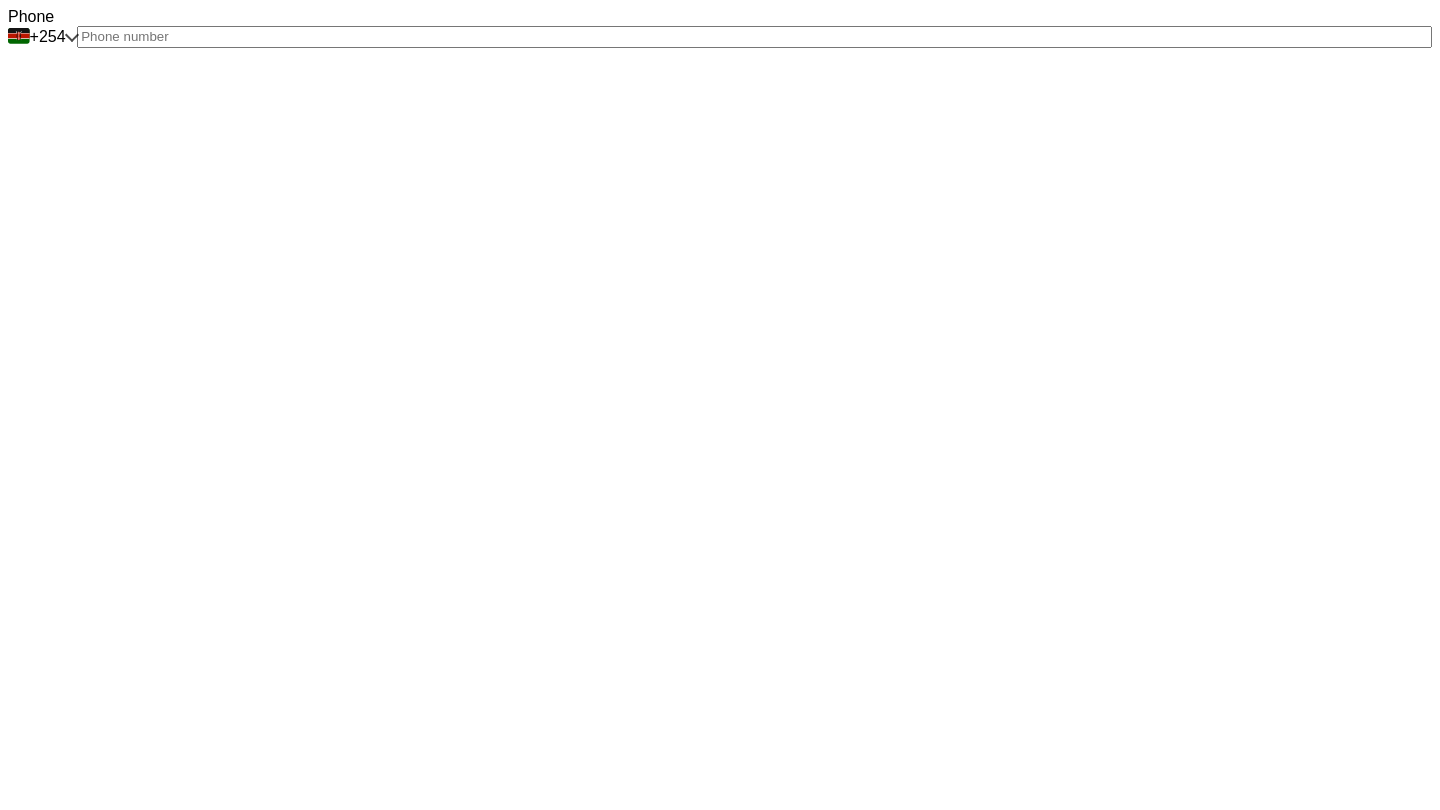
Test case: PhoneInput › opens a searchable list, finds a country by name, and the number follows the choice
Type "0772123456" into the field labelled "Phone".
click(755, 37); type("0772123456")  # box [77,26,1432,48]
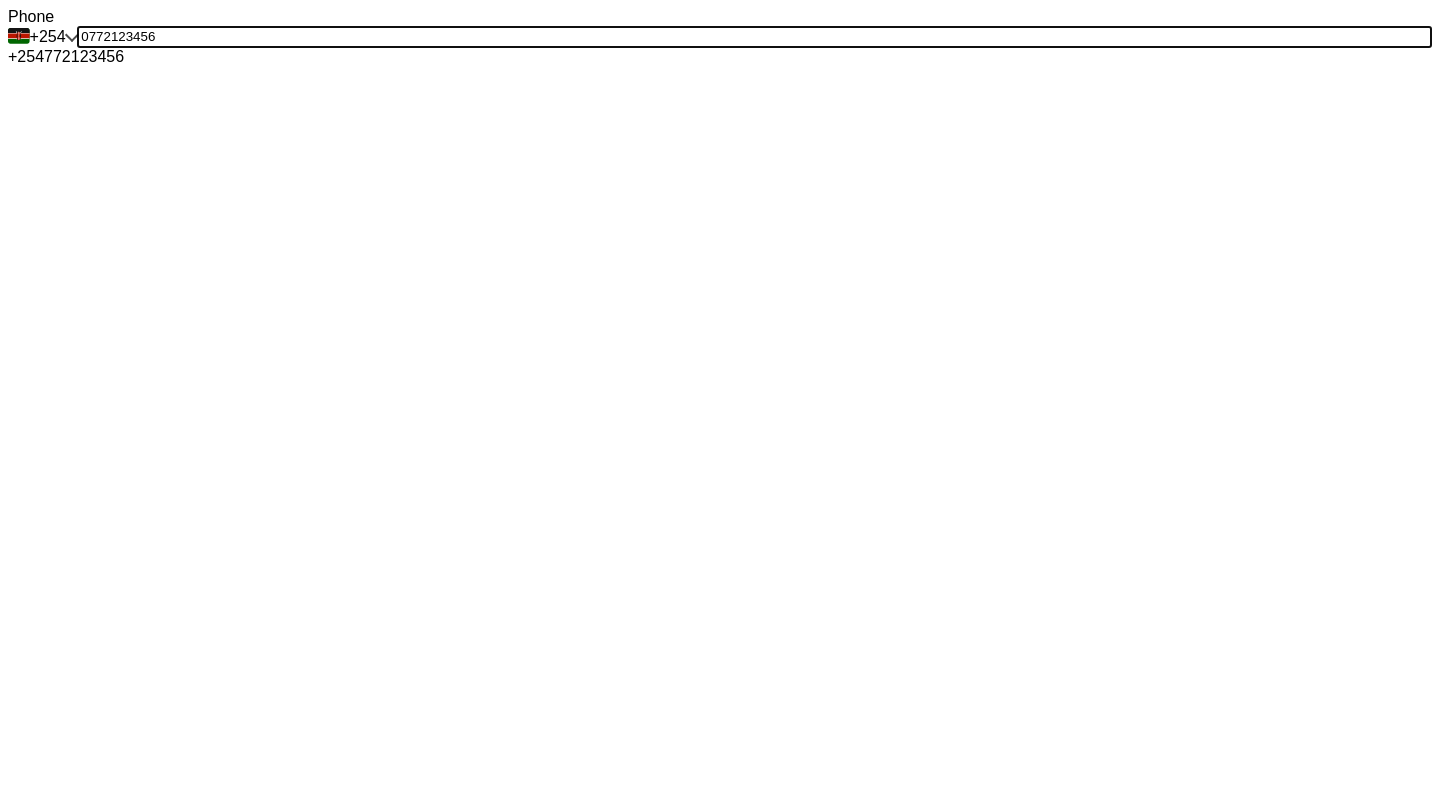
Click the button named "country code".
click(43, 37)  # box [8,26,77,48]
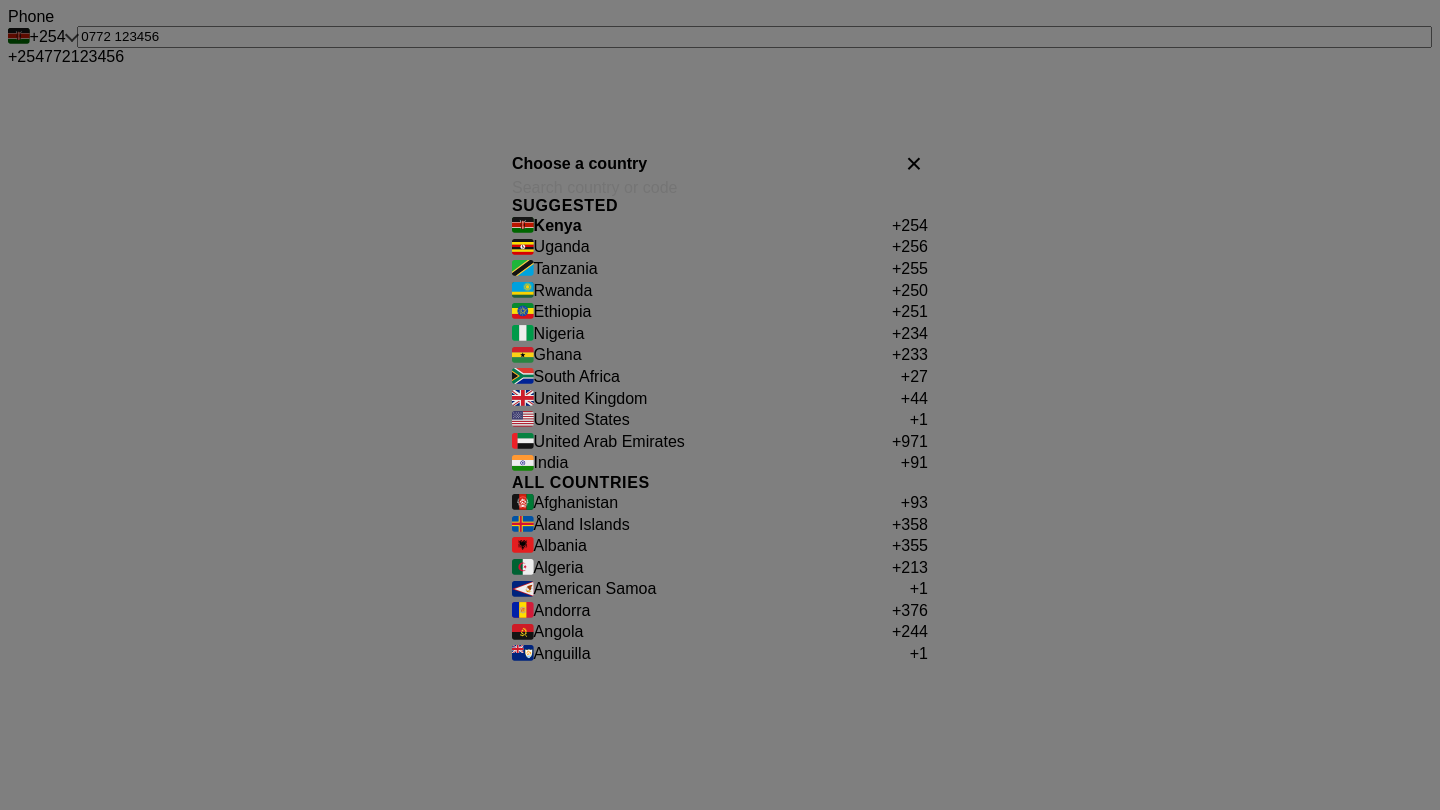
Expected: the list item "Suggested" is shown, [512,197,618,214]
Type "ugan" into the dropdown.
click(720, 188); type("ugan")  # box [512,179,928,197]
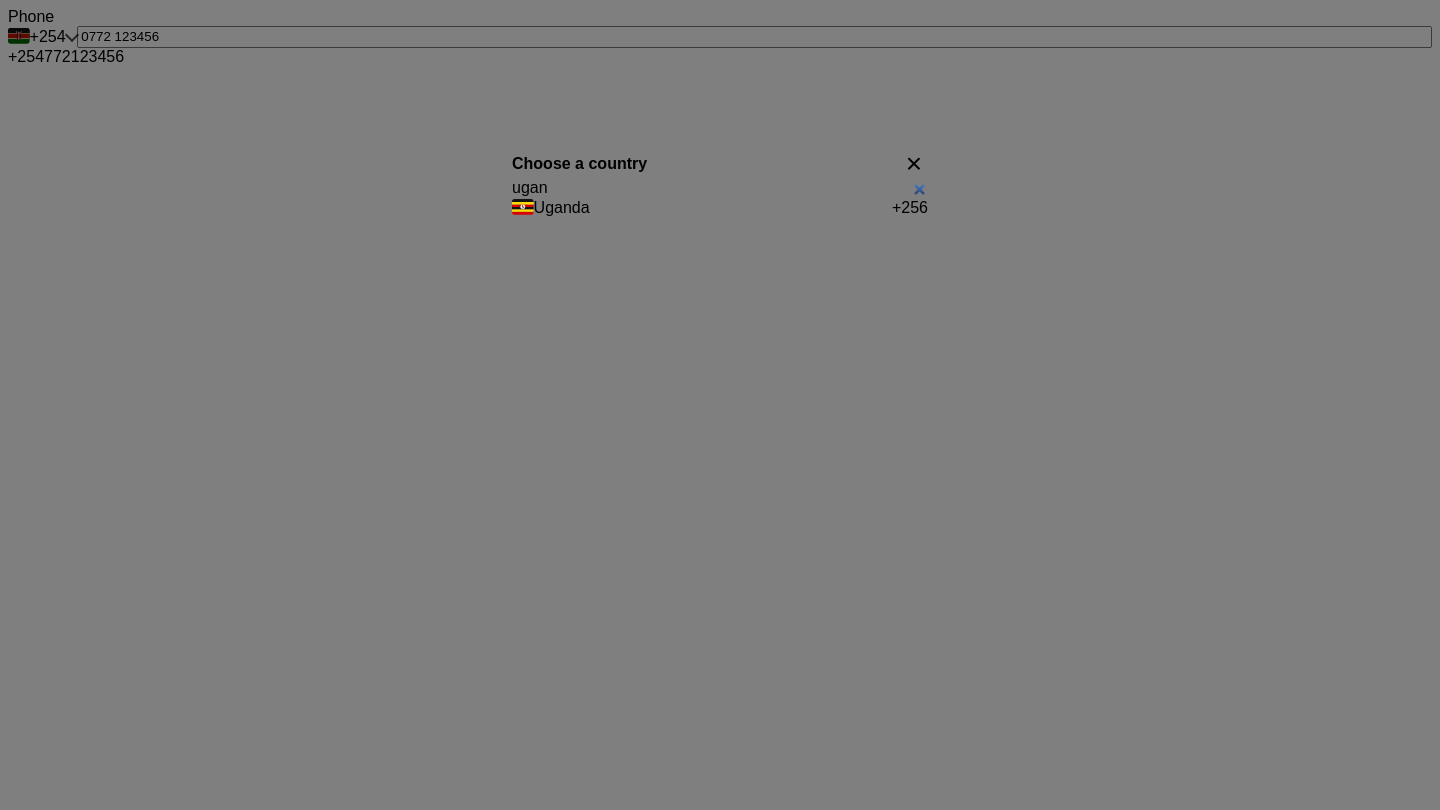
Expected: the option shows "Uganda"
Expected: the option shows "+256"
Expected: the number of options is 1
Click the option "🇺🇬 Uganda +256".
click(562, 207)  # box [512,197,928,219]
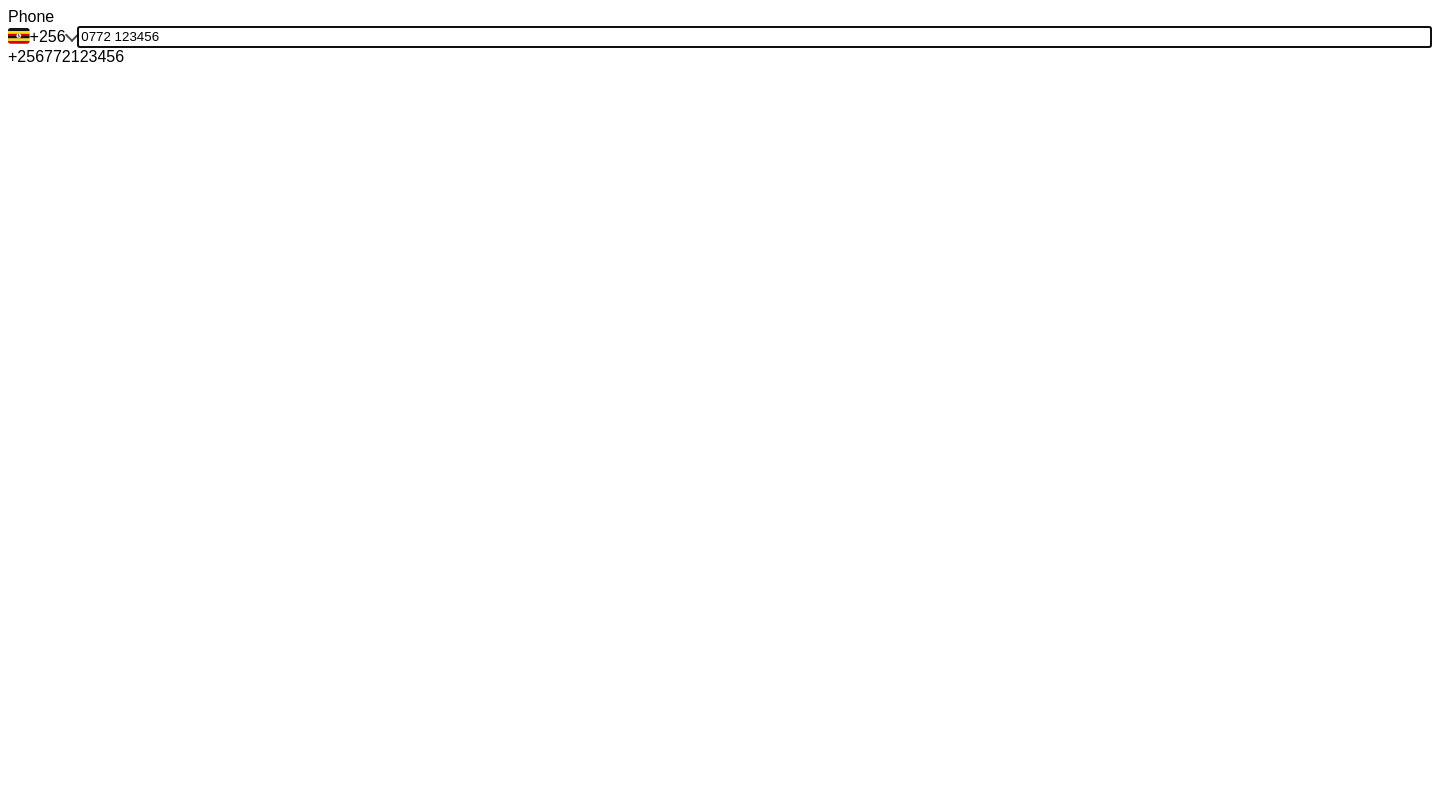
Expected: the button named "country code" shows "🇺🇬", [8,26,77,48]
Expected: the button named "country code" shows "+256", [8,26,77,48]
Expected: the dialog is gone
